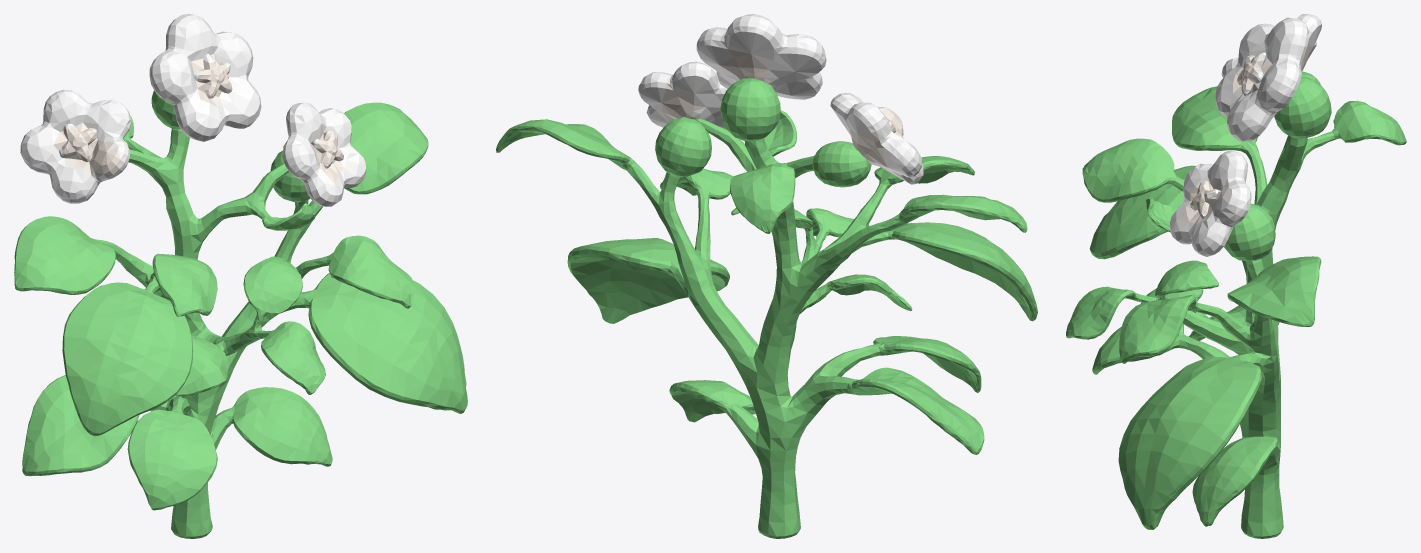
File: crop_imo3.glb
The picture shows the model from 3 angles, left to right: view 1: azimuth 30°, elevation 25°; view 2: azimuth 150°, elevation 25°; view 3: azimuth 270°, elevation 25°; orthographic projection. The views are drawn at different scales.
Parts seen in each view (by area): view 1: leaf, dot, under; view 2: leaf, dot, under; view 3: leaf, dot, under.
Boxes of the visible parts, box(x1,y1,x2,y2) form: leaf: box(14, 90, 467, 538); dot: box(20, 14, 366, 206); under: box(53, 54, 344, 184); leaf: box(496, 78, 1037, 538); dot: box(638, 14, 923, 184); under: box(661, 49, 903, 167); leaf: box(1066, 71, 1406, 538); dot: box(1170, 14, 1321, 256); under: box(1176, 37, 1317, 224).
Bounding box in the file's own units: 0.3022 × 0.3184 × 0.1904.
